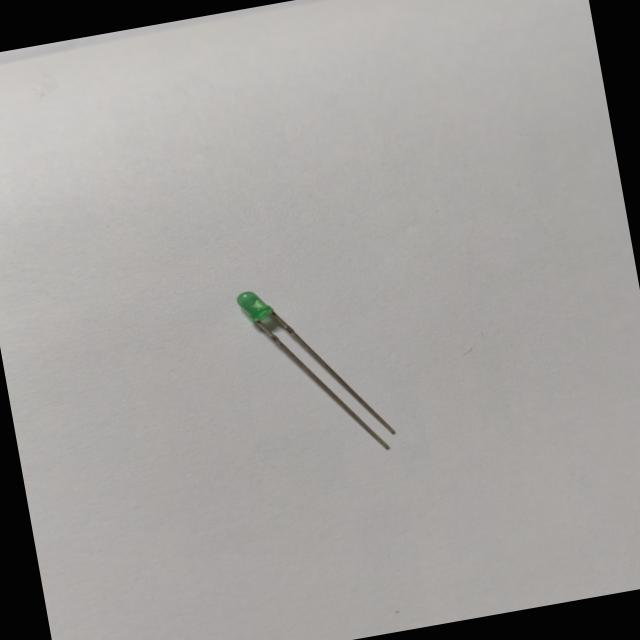led: (223, 254, 415, 480)
